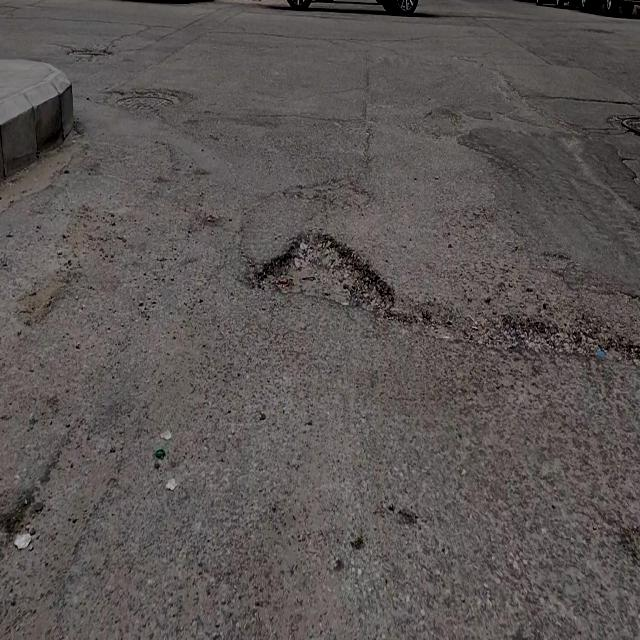Potholes: (254, 223, 397, 316)
